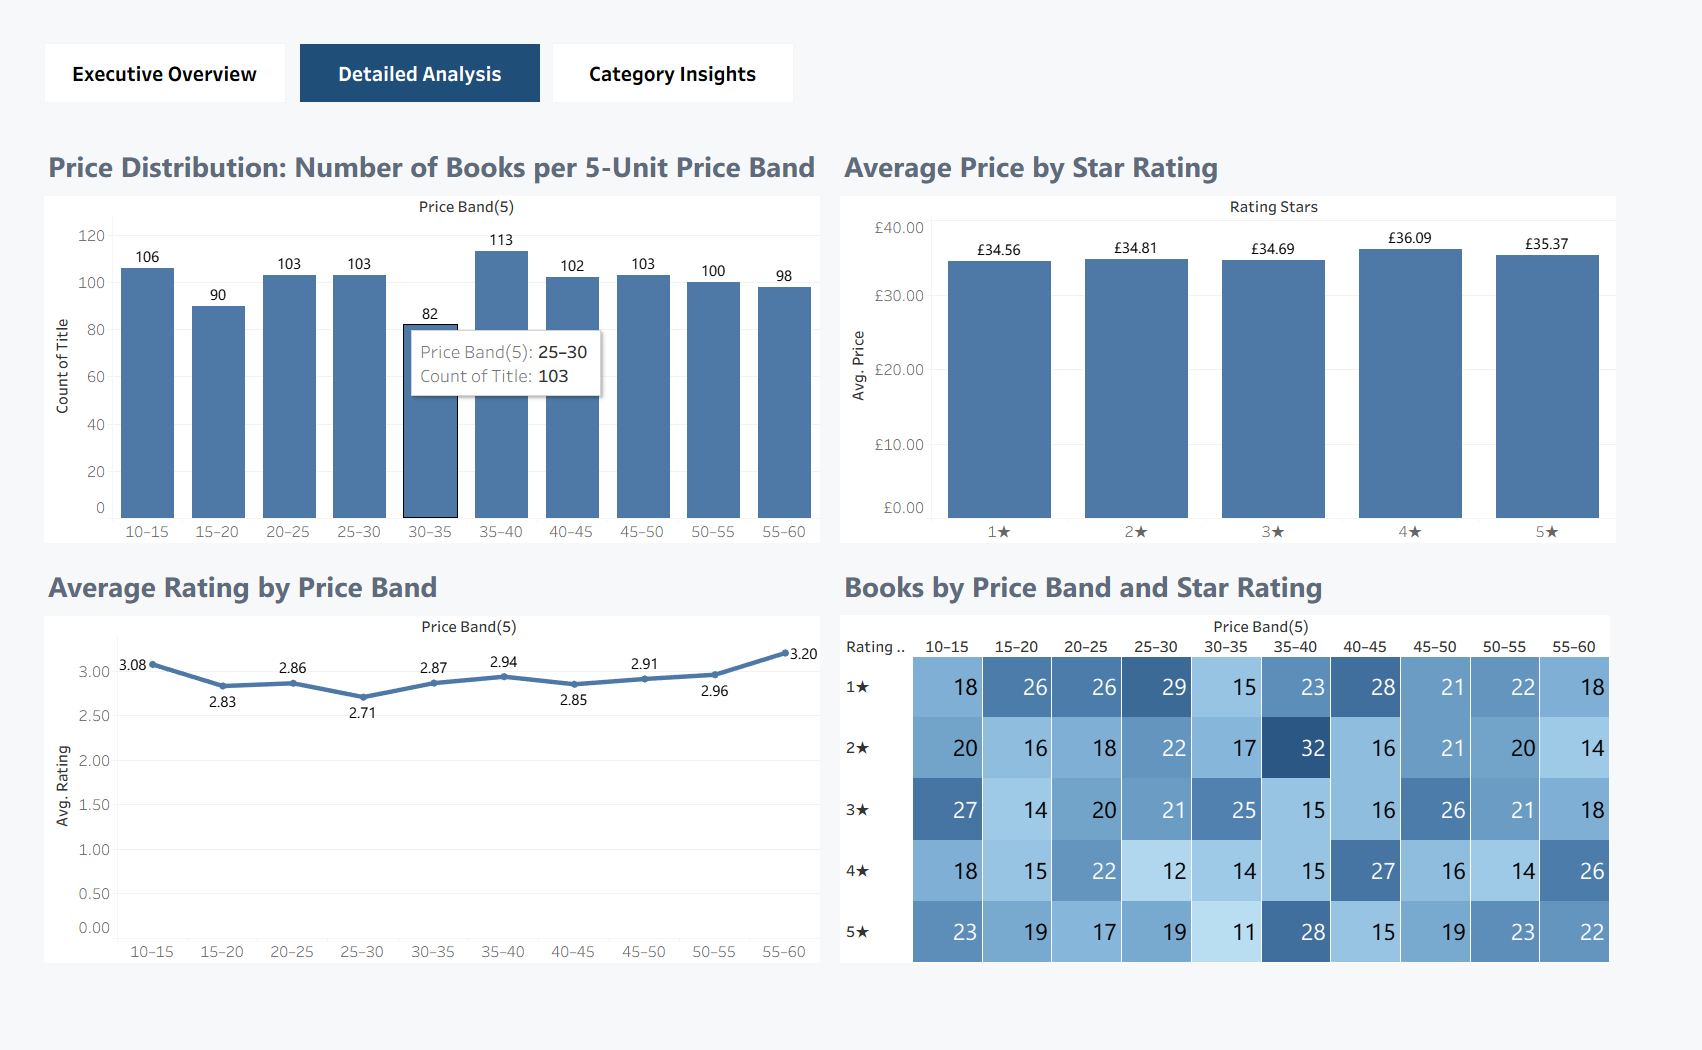

The page's visual inventory and layout, read from the dashboard file:
{"tool":"tableau","page":{"name":"Detailed Analysis","canvas":[1000,1000],"units":"permille","ordinal":1},"visuals":[{"type":"dashboard-object","box":[12.6,20,151.1,60]},{"type":"dashboard-object","box":[171.9,20,151.1,60]},{"type":"dashboard-object","box":[330,20,151.1,60]},{"type":"worksheet","title":"Price Distribution","mark":"Automatic","rows":["Title"],"cols":["Calculation_1079218593681413"],"box":[12.6,120,484.9,400]},{"type":"worksheet","title":"Average Price by Star Rating","mark":"Automatic","rows":["Price"],"cols":["Calculation_1079218581385217"],"box":[510.1,120,484.9,400]},{"type":"worksheet","title":"Average Rating","mark":"Line","rows":["Rating"],"cols":["Calculation_1079218593681413"],"box":[12.6,540,484.9,400]},{"type":"worksheet","title":"Books by Price Band","mark":"Square","rows":["Calculation_1079218581385217"],"cols":["Calculation_1079218593681413"],"box":[510.1,540,481.1,400]}]}

Visuals, with their boxes on the dashboard's canvas, which has no fixed pixel size, in thousandths of its width and height (x1, y1, x2, y2). These are canvas units, not pixel positions in the 1702x1050 screenshot, which may show the page scaled, cropped or inside an application window:
dashboard-object: 13 20 164 80
dashboard-object: 172 20 323 80
dashboard-object: 330 20 481 80
"Price Distribution" worksheet: 13 120 498 520
"Average Price by Star Rating" worksheet: 510 120 995 520
"Average Rating" worksheet (Line marks): 13 540 498 940
"Books by Price Band" worksheet (Square marks): 510 540 991 940
